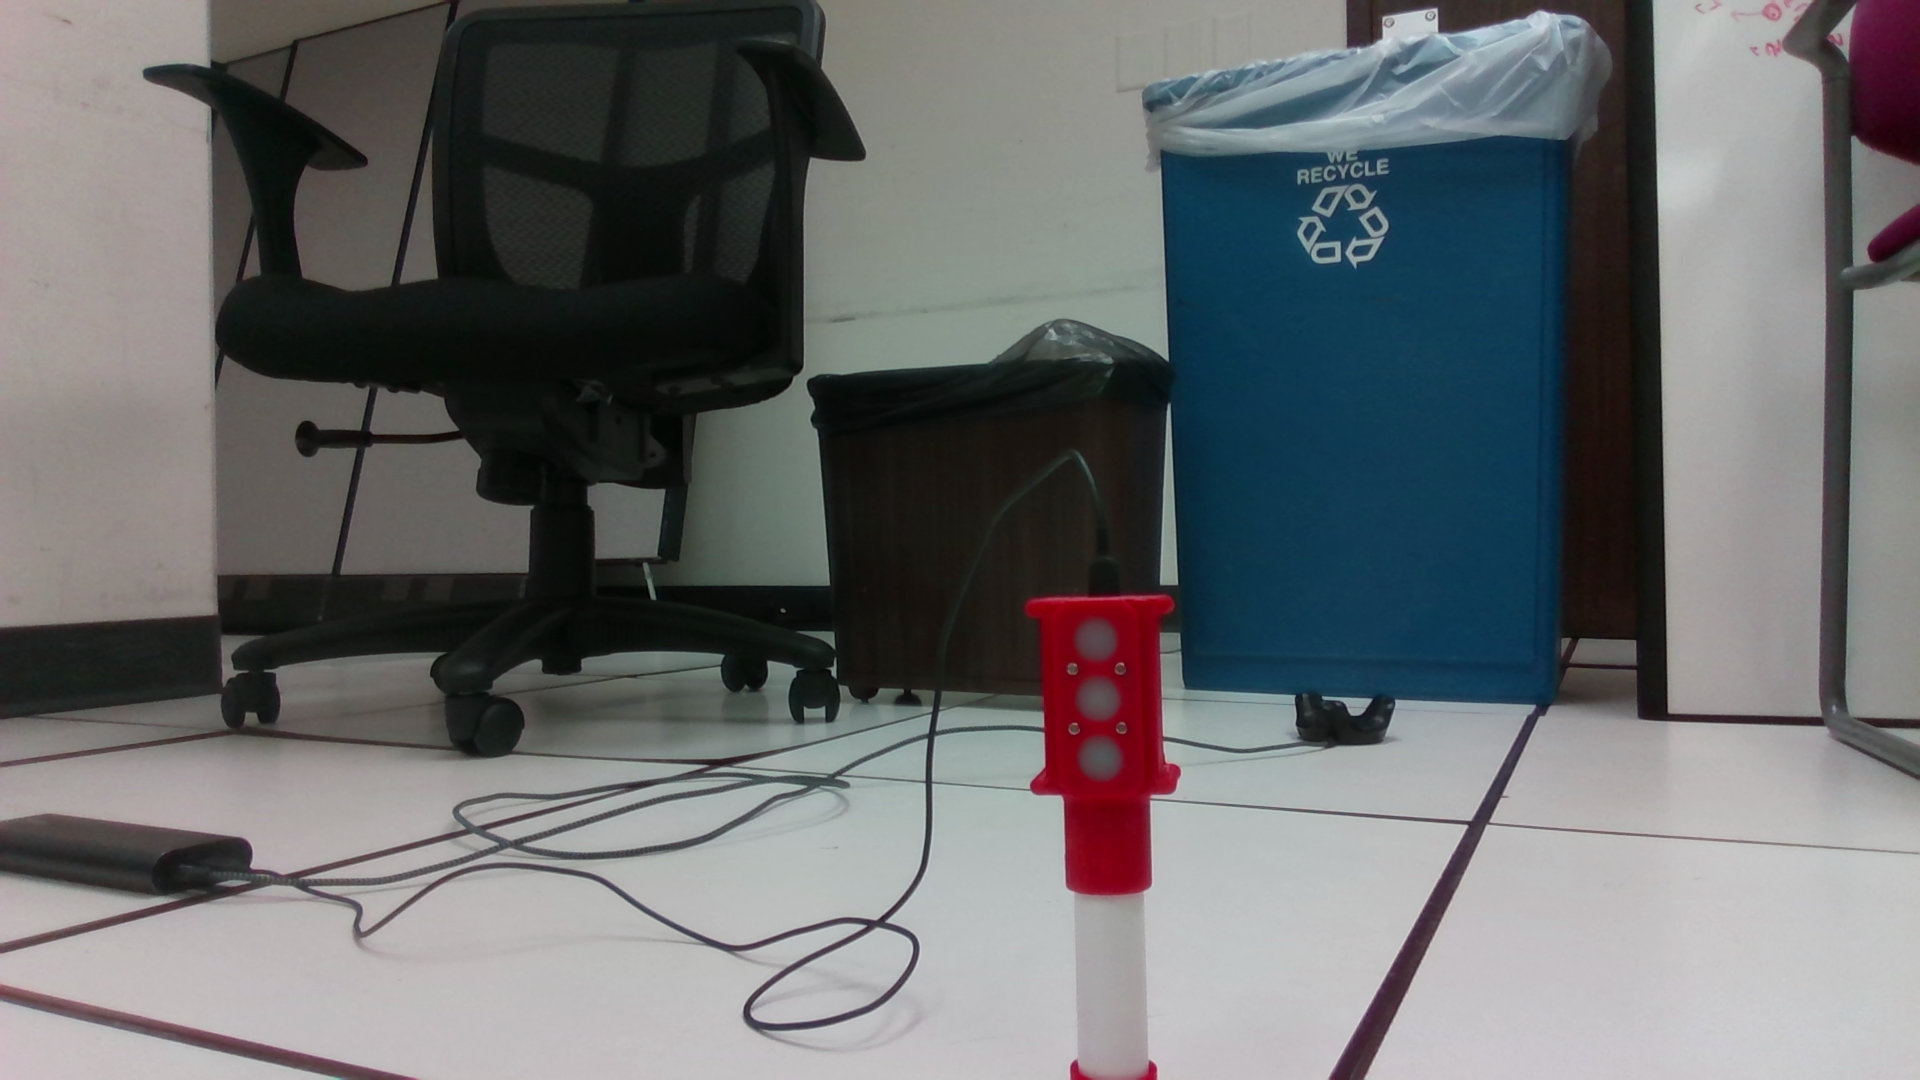stoplight: (1018, 589, 1184, 899)
